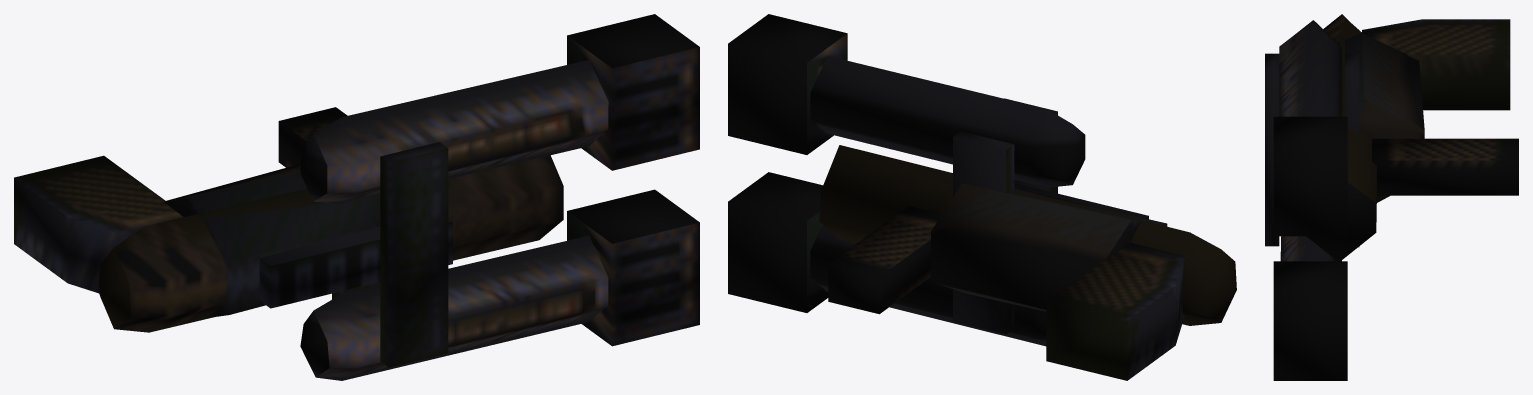
Rendered from g_nailout.gltf.
The picture shows the model from 3 angles, left to right: view 1: azimuth 30°, elevation 25°; view 2: azimuth 150°, elevation 25°; view 3: azimuth 270°, elevation 25°; orthographic projection. The views are drawn at different scales.
Visible parts, largest first — view 1: mesh0_noesis_meshnode_0000; view 2: mesh0_noesis_meshnode_0000; view 3: mesh0_noesis_meshnode_0000.
Part boxes in pixels (bbox=[...]): mesh0_noesis_meshnode_0000: bbox=[14, 14, 699, 380]; mesh0_noesis_meshnode_0000: bbox=[728, 14, 1236, 380]; mesh0_noesis_meshnode_0000: bbox=[1265, 14, 1518, 380].
Bounding box in the file's own units: 26.87 × 12.75 × 12.82.
Materials: 1 (1 with a texture image).
